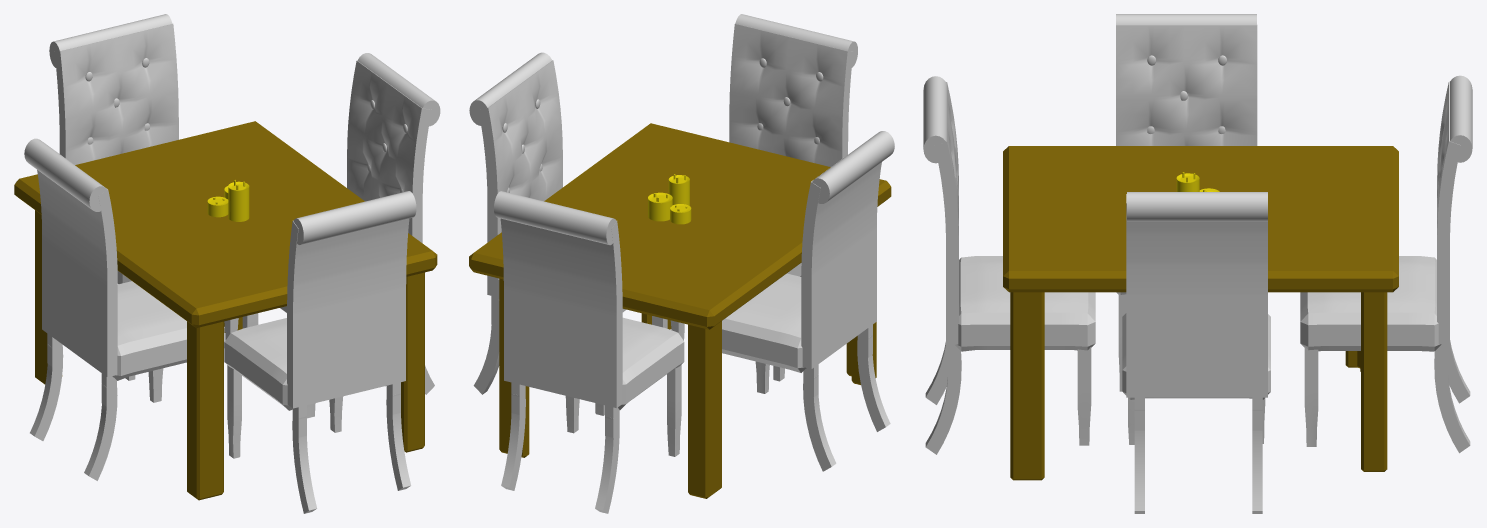
File: diningSet.fbx
3 renders of one model, left to right at view 1: azimuth 30°, elevation 25°; view 2: azimuth 150°, elevation 25°; view 3: azimuth 270°, elevation 25°, orthographic. The views are drawn at different scales.
Parts seen in each view (by area): view 1: pasted__chairBack (×4), table1, pasted__seat (×2), pasted__chairHeadrest (×4), tableLeg2, tableLeg, pasted__bottomLeftBackLeg (×2), pasted__bottomRightBackLeg (×2), tableLeg3, pasted__frontRightLeg, candle; view 2: pasted__chairBack (×4), table1, pasted__seat (×2), pasted__chairHeadrest (×4), tableLeg3, pasted__bottomLeftBackLeg (×3), pasted__bottomRightBackLeg (×2), tableLeg4, pasted__frontLeftLeg, tableLeg2, candle2, candle; view 3: pasted__chairBack (×4), table1, pasted__seat (×3), pasted__chairHeadrest (×4), tableLeg, tableLeg4, pasted__bottomRightBackLeg (×3), pasted__bottomLeftBackLeg (×3), pasted__frontRightLeg, pasted__frontLeftLeg.
Boxes of the visible parts, x1=… form: pasted__chairBack (×4): x1=37, y1=24, x2=431, y2=408; table1: x1=14, y1=121, x2=437, y2=327; pasted__seat (×2): x1=112, y1=281, x2=385, y2=410; pasted__chairHeadrest (×4): x1=24, y1=14, x2=440, y2=244; tableLeg2: x1=187, y1=321, x2=223, y2=500; tableLeg: x1=401, y1=272, x2=424, y2=452; pasted__bottomLeftBackLeg (×2): x1=84, y1=384, x2=411, y2=490; pasted__bottomRightBackLeg (×2): x1=30, y1=344, x2=317, y2=513; tableLeg3: x1=35, y1=210, x2=62, y2=384; pasted__frontRightLeg: x1=227, y1=365, x2=241, y2=458; candle: x1=228, y1=180, x2=249, y2=221; pasted__chairBack (×4): x1=478, y1=24, x2=881, y2=408; table1: x1=469, y1=123, x2=891, y2=329; pasted__seat (×2): x1=617, y1=273, x2=806, y2=409; pasted__chairHeadrest (×4): x1=469, y1=14, x2=894, y2=245; tableLeg3: x1=688, y1=321, x2=721, y2=498; pasted__bottomLeftBackLeg (×3): x1=473, y1=305, x2=890, y2=513; pasted__bottomRightBackLeg (×2): x1=501, y1=375, x2=836, y2=490; tableLeg4: x1=499, y1=278, x2=529, y2=457; pasted__frontLeftLeg: x1=667, y1=365, x2=681, y2=456; tableLeg2: x1=846, y1=322, x2=876, y2=384; candle2: x1=648, y1=192, x2=672, y2=221; candle: x1=668, y1=174, x2=689, y2=205; pasted__chairBack (×4): x1=934, y1=25, x2=1461, y2=397; table1: x1=1003, y1=146, x2=1398, y2=292; pasted__seat (×3): x1=955, y1=256, x2=1441, y2=399; pasted__chairHeadrest (×4): x1=923, y1=14, x2=1472, y2=221; tableLeg: x1=1010, y1=292, x2=1044, y2=480; tableLeg4: x1=1361, y1=292, x2=1387, y2=471; pasted__bottomRightBackLeg (×3): x1=925, y1=342, x2=1470, y2=513; pasted__bottomLeftBackLeg (×3): x1=925, y1=340, x2=1470, y2=513; pasted__frontRightLeg: x1=1304, y1=347, x2=1318, y2=446; pasted__frontLeftLeg: x1=1077, y1=347, x2=1091, y2=445.
Bounding box in the file's own units: 3.85 × 3.07 × 4.75.
